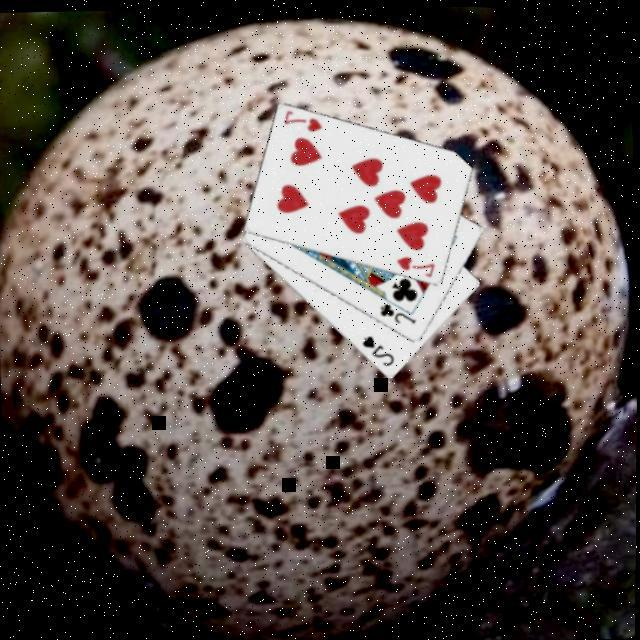2S: (360, 328, 398, 366)
7H: (394, 249, 439, 279), (281, 103, 326, 133)
JC: (377, 295, 420, 323)
